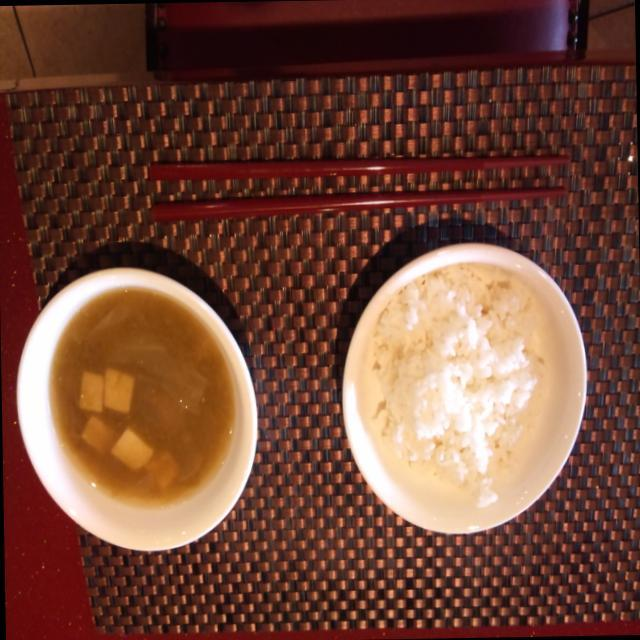Rice: (336, 235, 591, 538)
